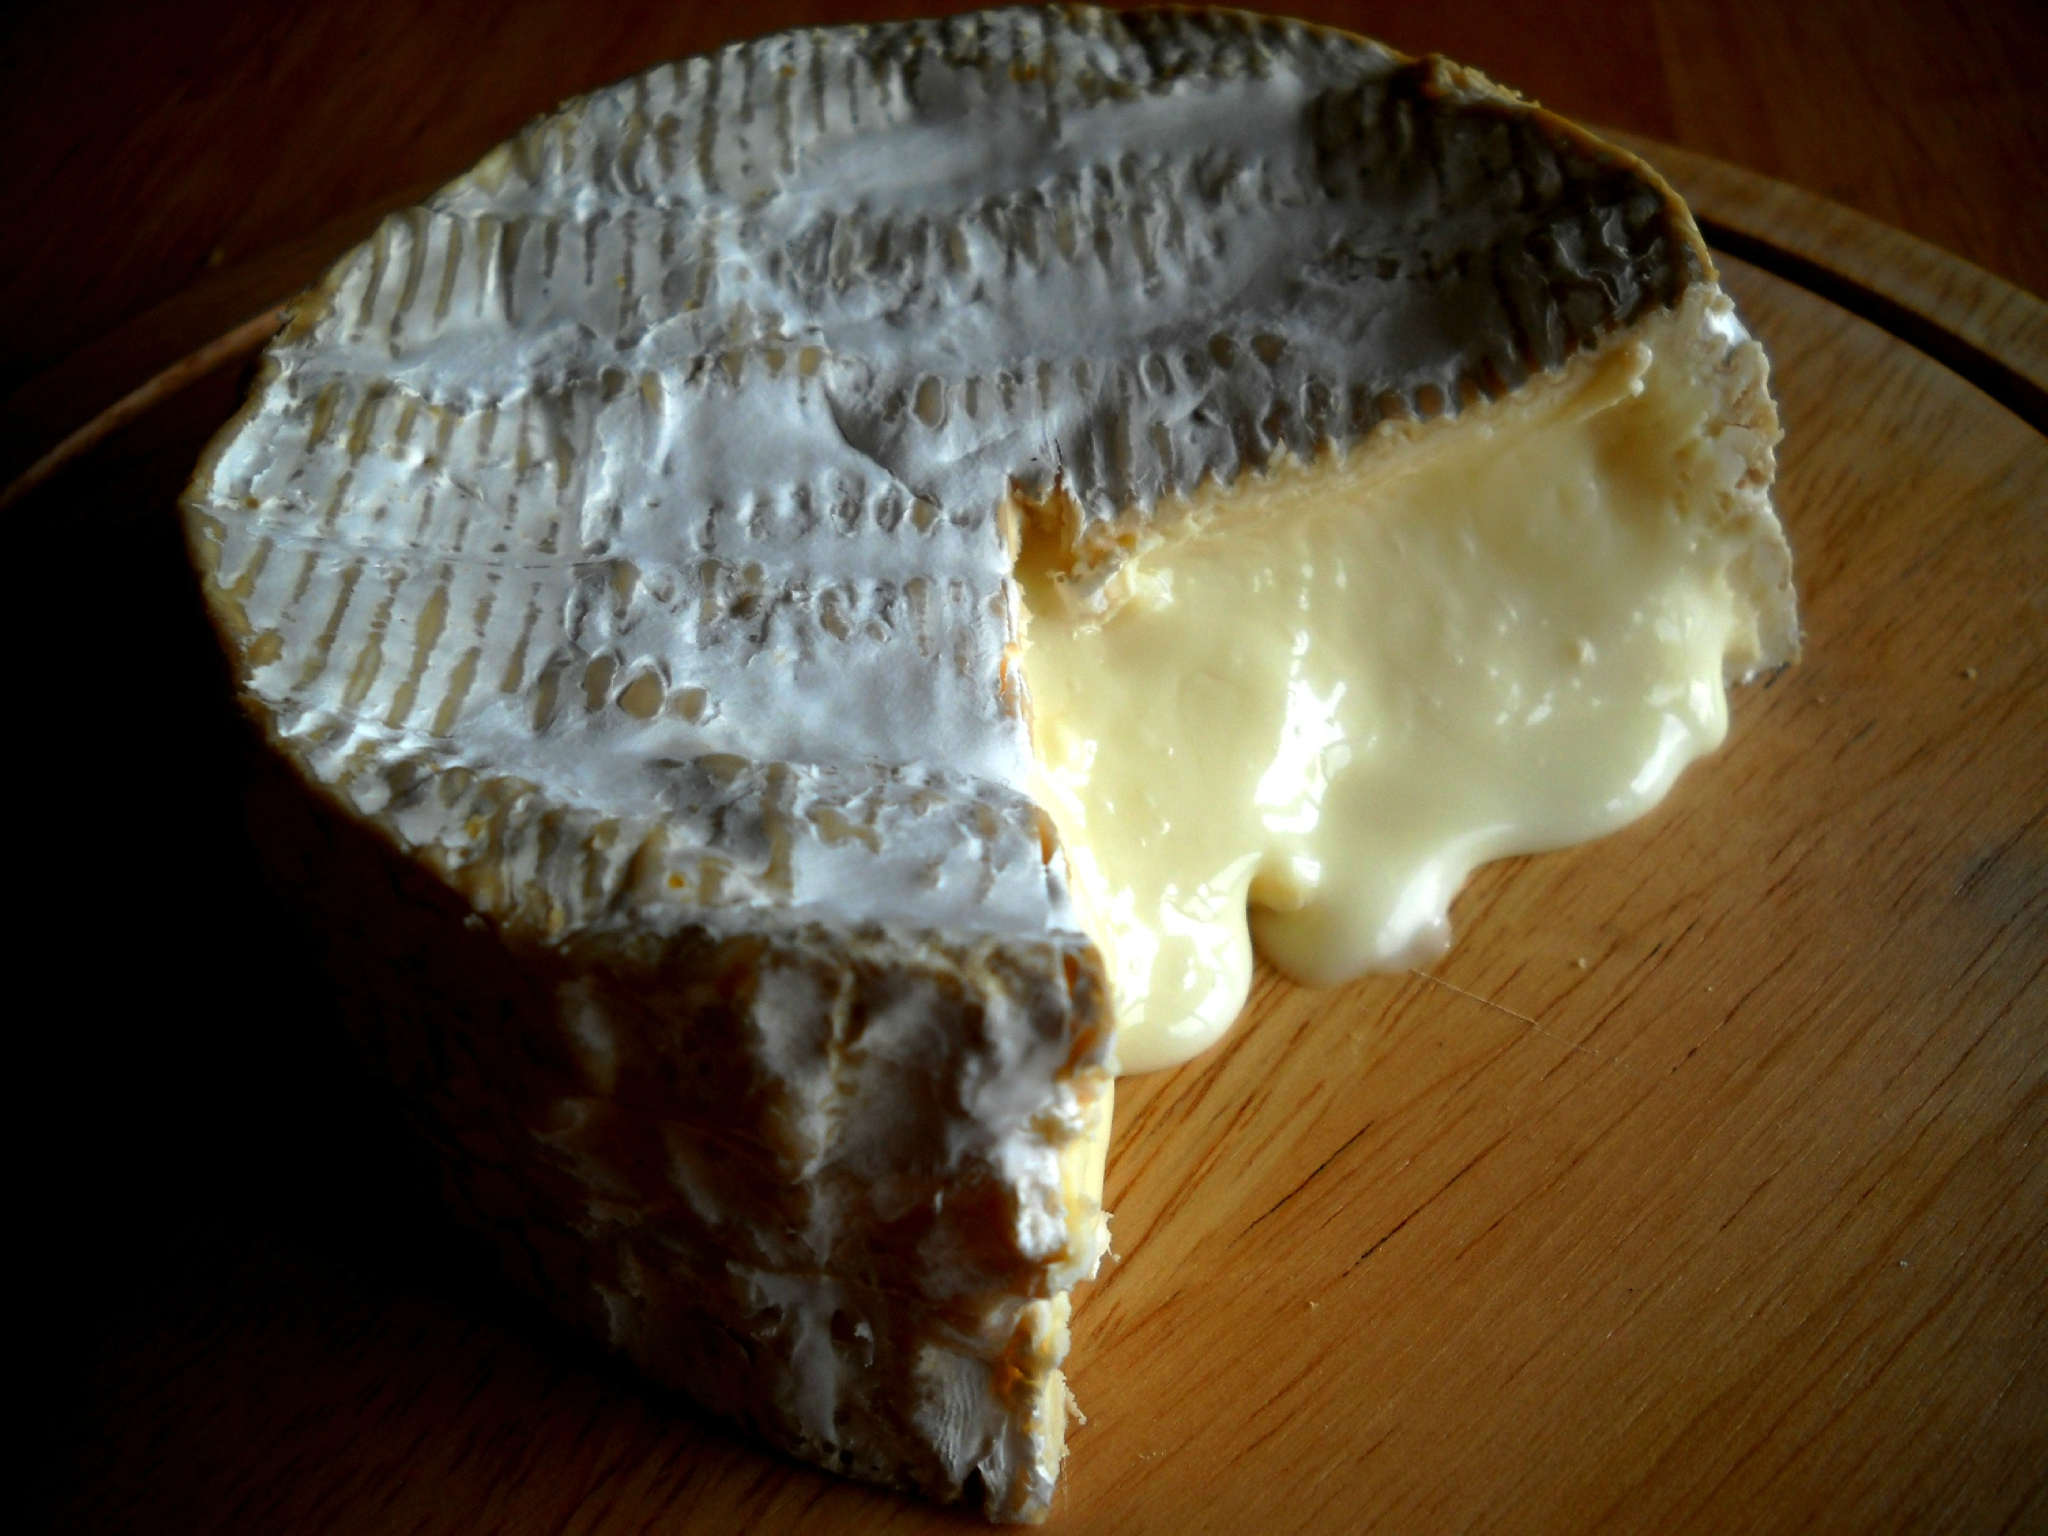camembert: (176, 8, 1821, 1530)
